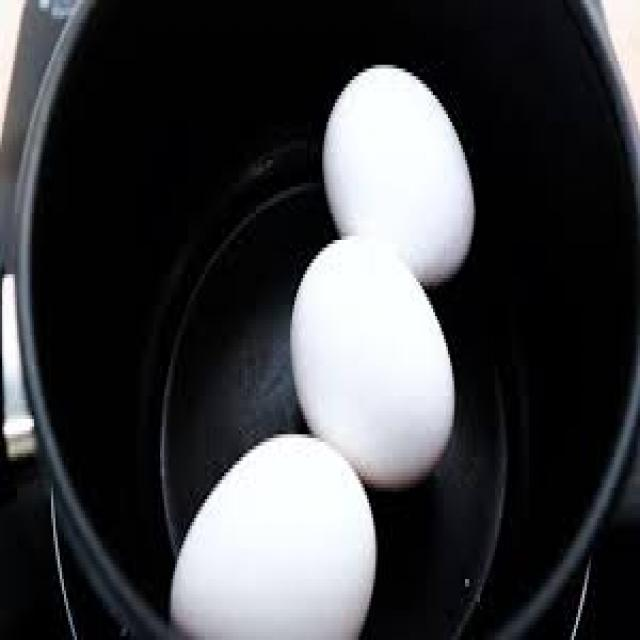Egg: (171, 434, 378, 640), (292, 236, 457, 490), (324, 65, 476, 286)
